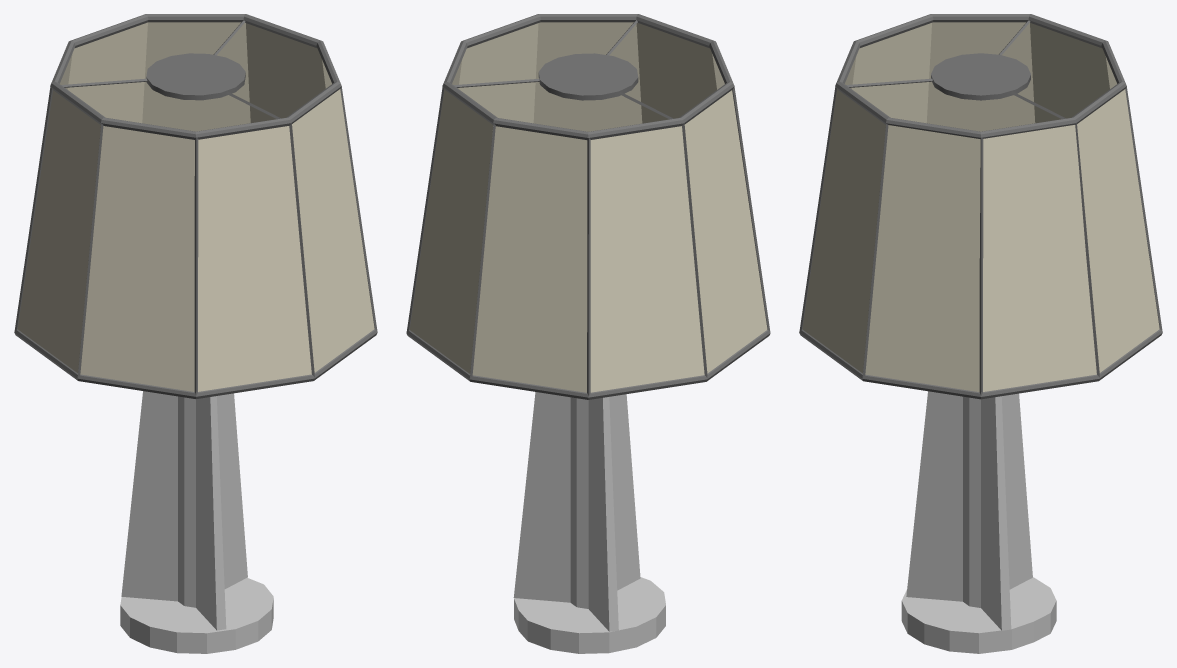
File: duck_lamp.fbx
3 views of the same model, side by side, from view 1: azimuth 30°, elevation 25°; view 2: azimuth 150°, elevation 25°; view 3: azimuth 270°, elevation 25° (orthographic).
Parts seen in each view (by area): view 1: polySurface20; view 2: polySurface20; view 3: polySurface20.
Boxes of the visible parts, <box> form: polySurface20: <box>14,14,377,653</box>; polySurface20: <box>406,14,770,653</box>; polySurface20: <box>799,14,1162,653</box>.
Bounding box in the file's own units: 7.86 × 13.31 × 7.98.
